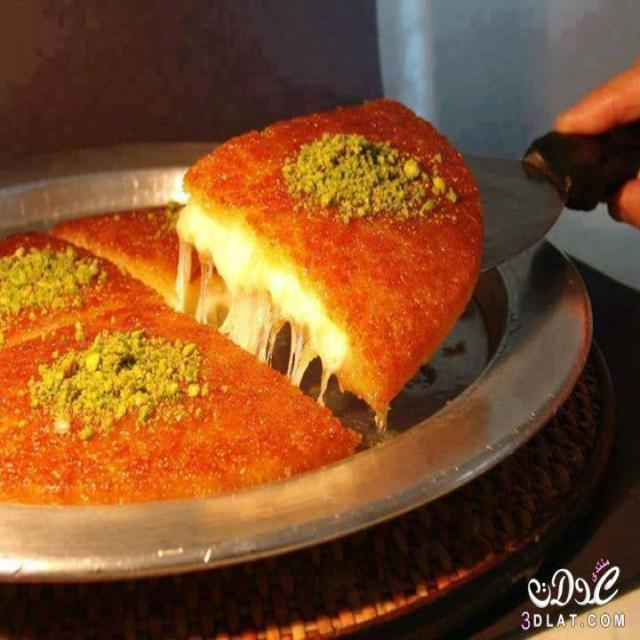konafa: (0, 96, 483, 502)
